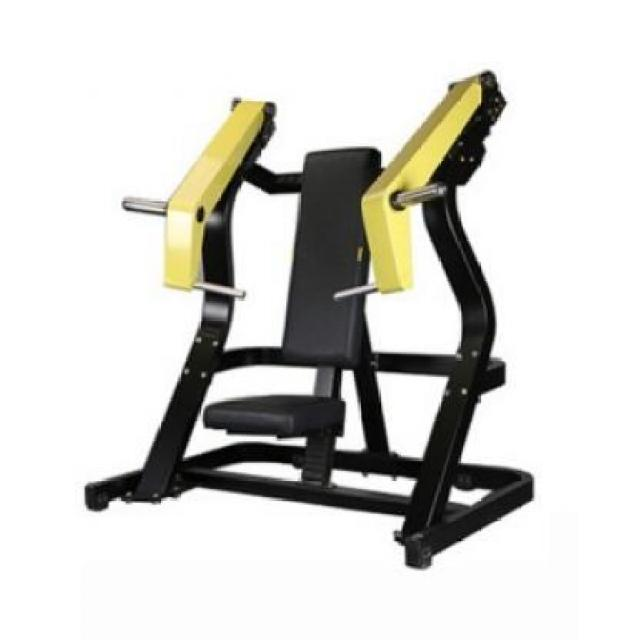Chest Press machine: (74, 66, 549, 577)
